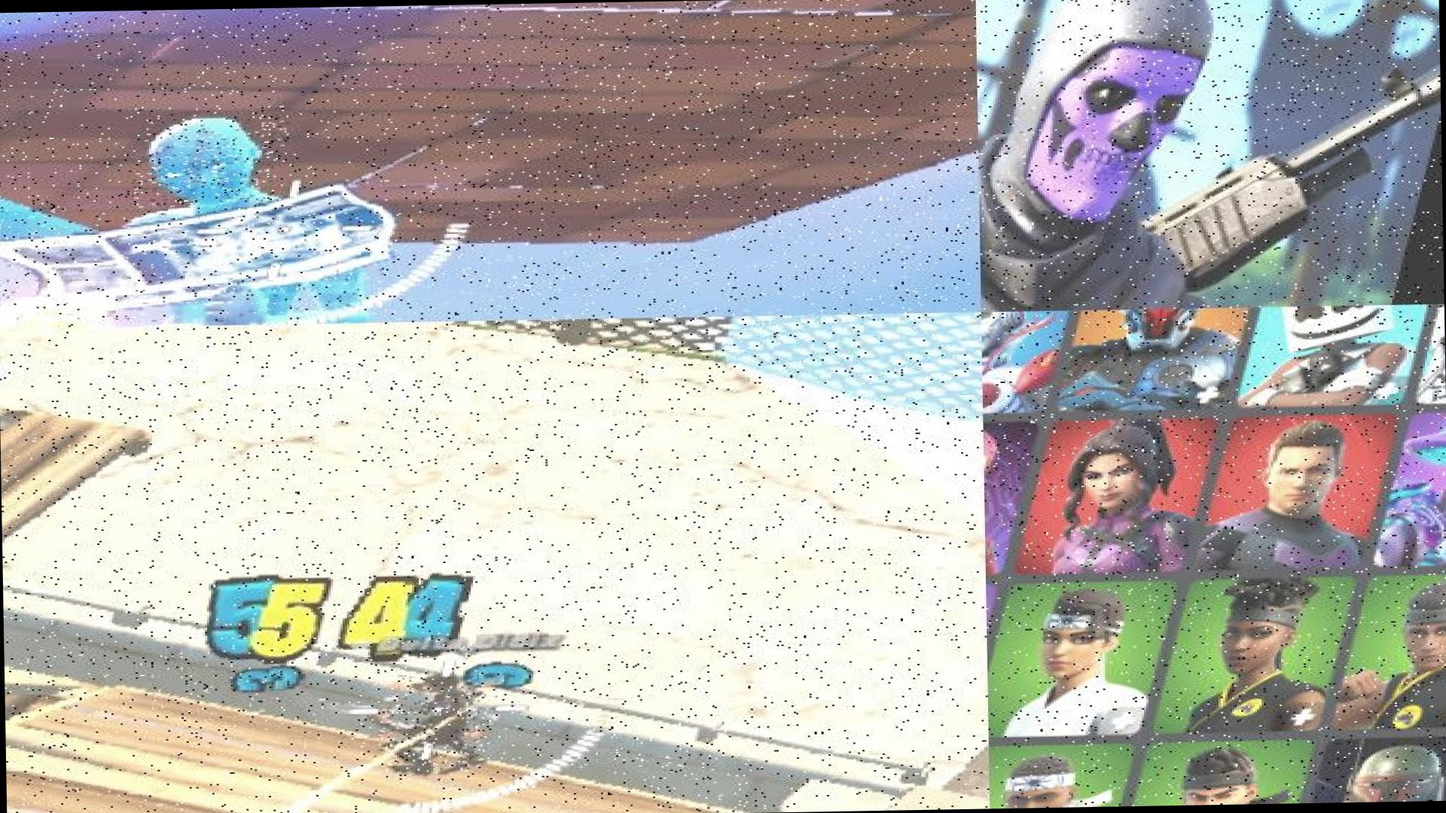player: (0, 199, 428, 329), (979, 190, 1264, 312), (395, 673, 529, 774)
